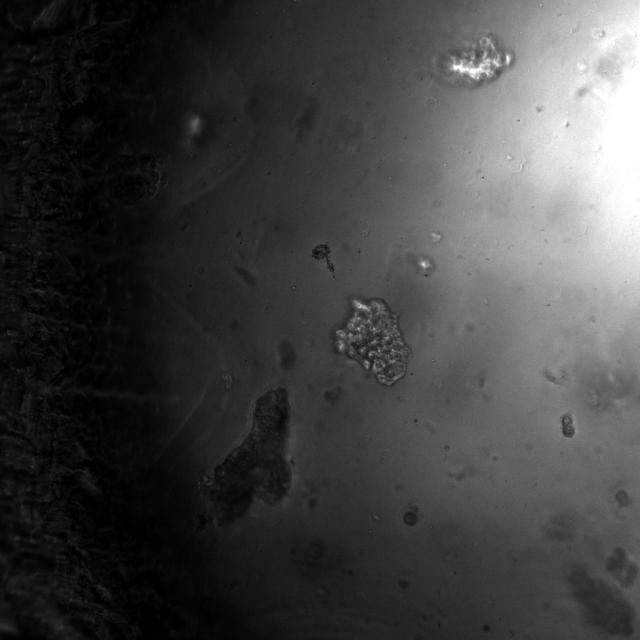organoid: (199, 387, 291, 525), (334, 299, 411, 385), (434, 33, 513, 86), (561, 413, 576, 438), (403, 511, 417, 525)
